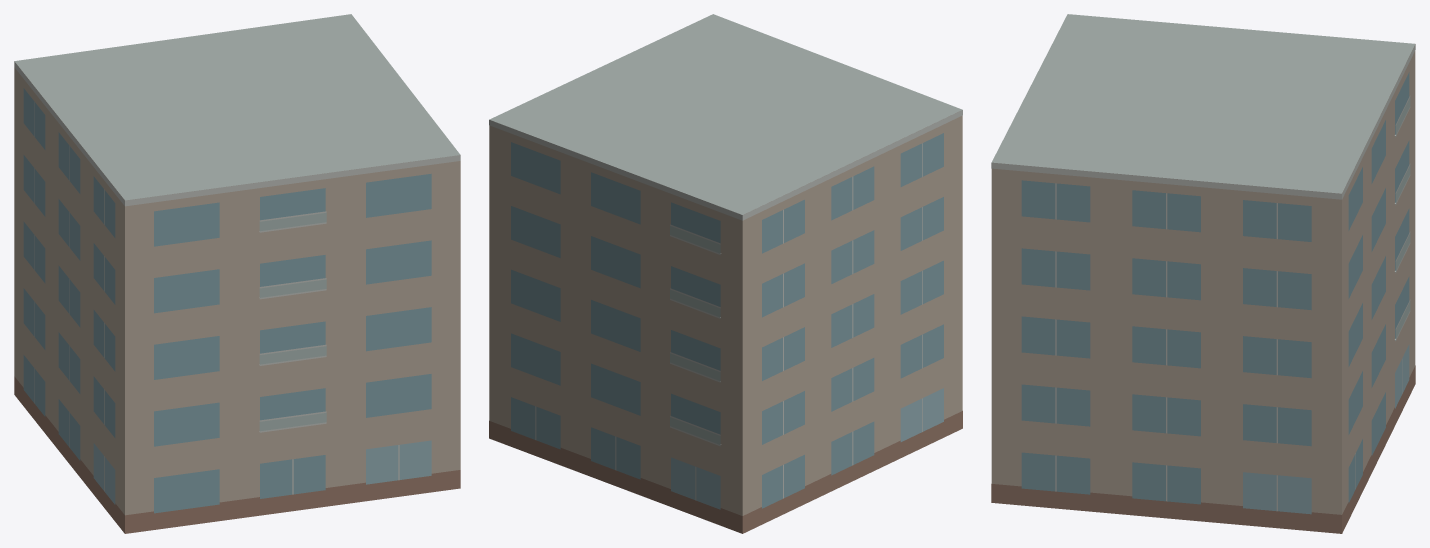
The model's file is survey-upis-32756359.glb.
3 renders of one model, left to right at view 1: azimuth 30°, elevation 25°; view 2: azimuth 150°, elevation 25°; view 3: azimuth 270°, elevation 25°, orthographic. The views are drawn at different scales.
Parts seen in each view (by area): view 1: survey-upis-32756359.tmp; view 2: survey-upis-32756359.tmp; view 3: survey-upis-32756359.tmp.
Part boxes in pixels (x1,y1,x2,y2): survey-upis-32756359.tmp: (14, 14, 460, 533); survey-upis-32756359.tmp: (489, 14, 962, 533); survey-upis-32756359.tmp: (991, 14, 1415, 533).
Size of the model in its own units: 15.64 by 13.8 by 15.6.
